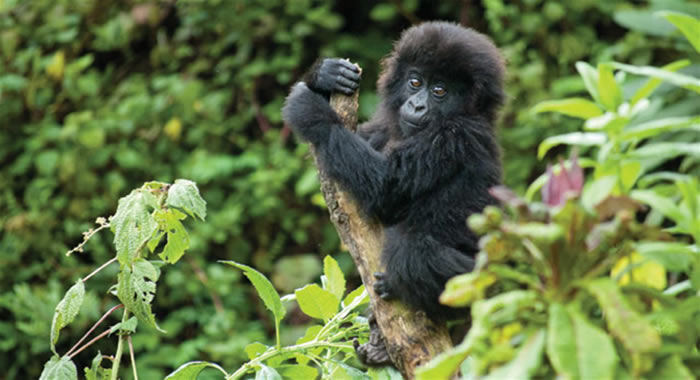Goriila: (287, 24, 525, 335)
